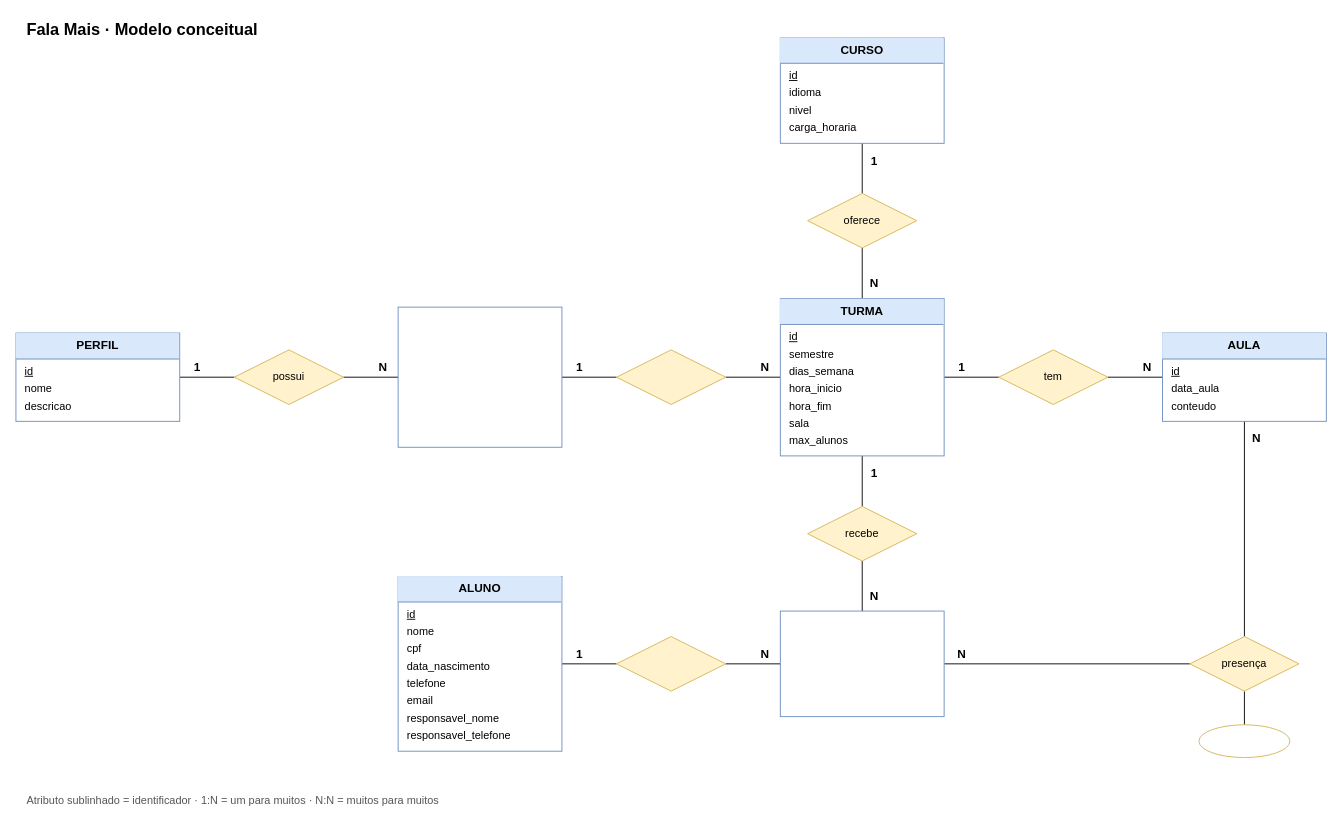
The diagram is 1342 pixels wide and 826 high, and some of its shapes have lost their labels. Here are the shapes that lost their labels. From the top down, the centre of each, then its label:
At [479,376]: "USUARIO id nome email senha_hash telefone ativo".
At [671,376]: "leciona".
At [671,663]: "faz".
At [861,663]: "MATRICULA id data_matricula situacao nota_final".
At [1244,741]: "presente".
